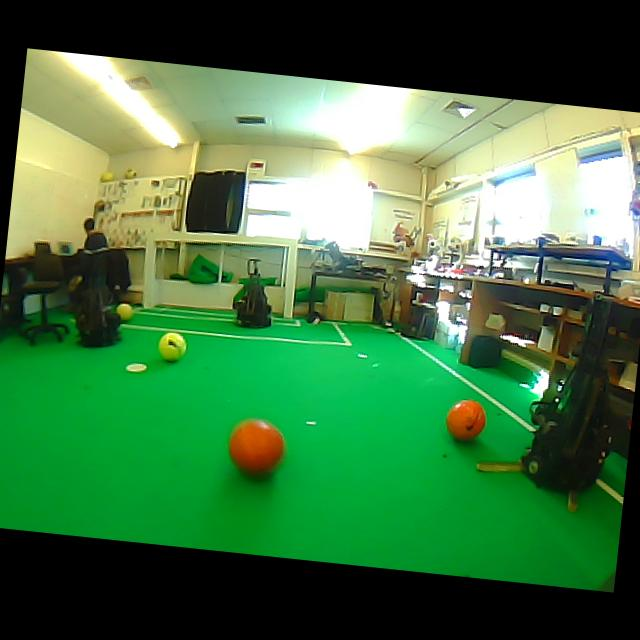ball: (228, 418, 283, 474), (446, 399, 485, 440), (157, 332, 186, 361), (116, 302, 133, 321), (100, 171, 114, 181), (124, 168, 135, 179)
goal: (282, 239, 297, 317), (142, 239, 157, 308)
robot: (522, 299, 611, 491), (76, 257, 121, 347), (233, 258, 270, 327)
